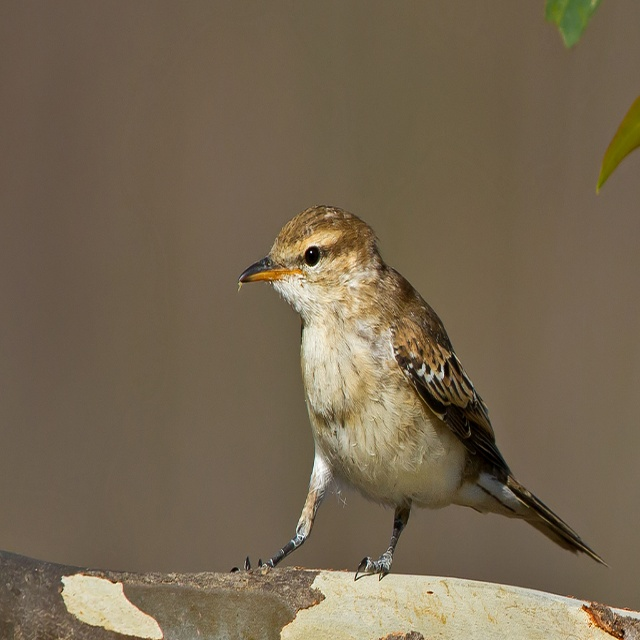Sparrow: (229, 203, 610, 578)
